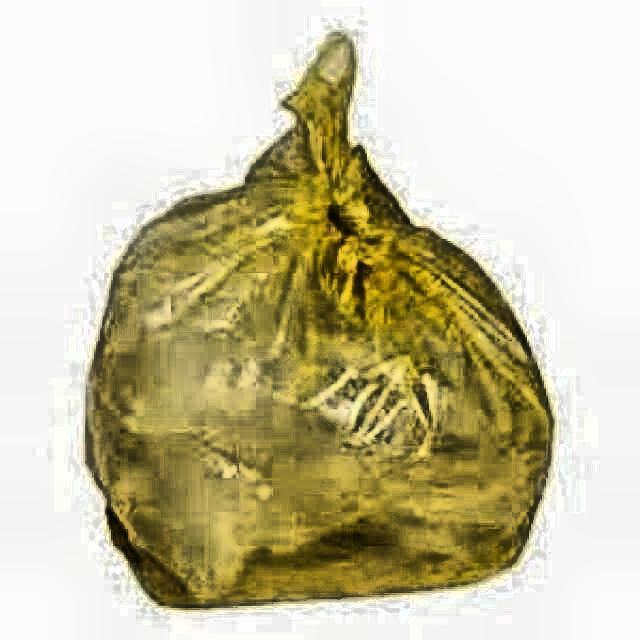Anorganik: (94, 39, 546, 590)
